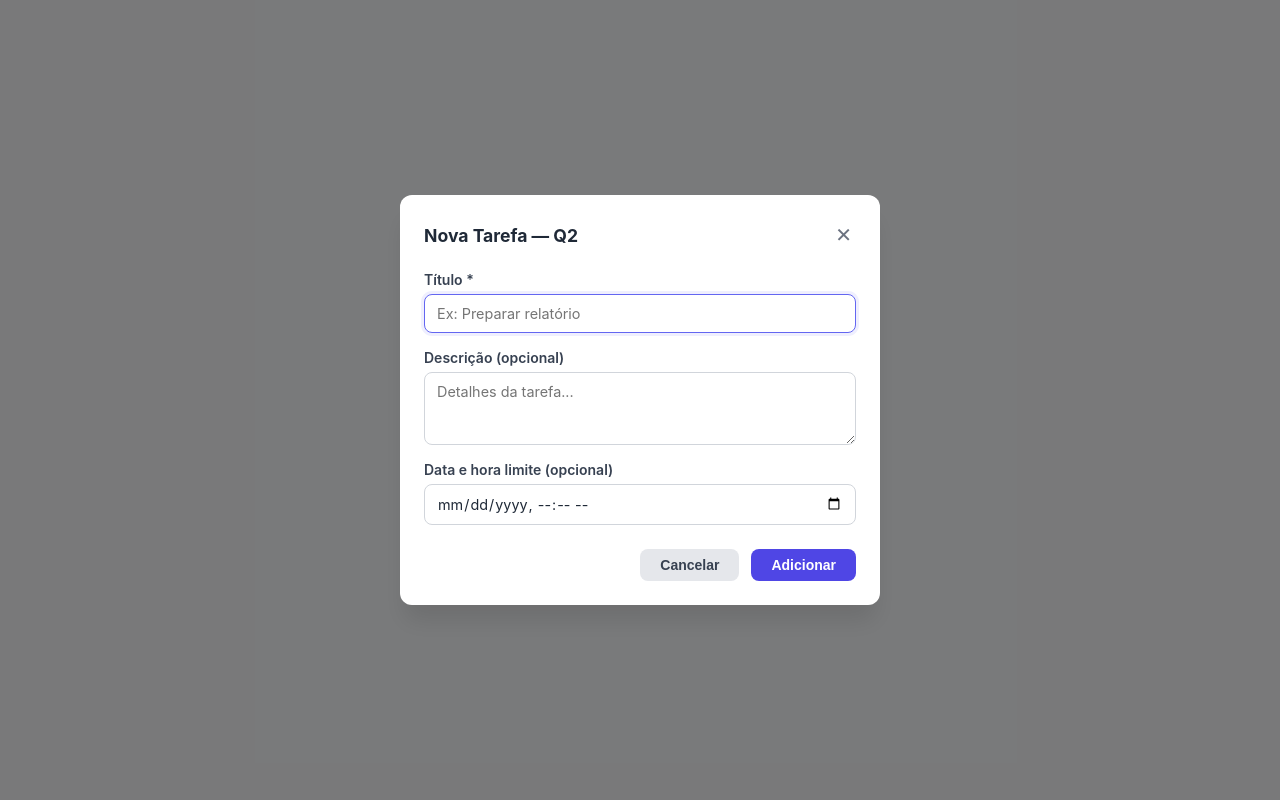
AddTaskModal › exibe erro quando createTask falha
Step 1. Type "Tarefa" into the field labelled "Título *" → (640, 314), box [424,294,856,333]
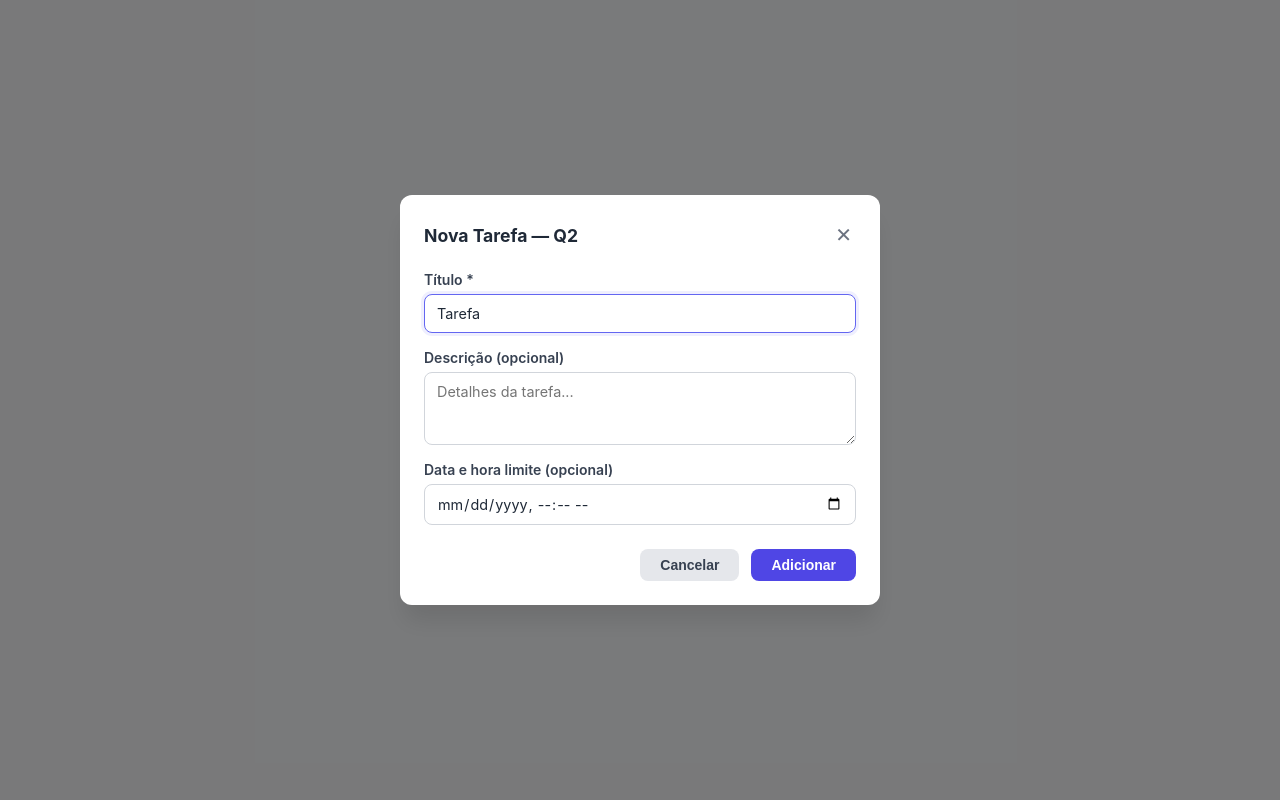
Step 2. Click the button "Adicionar" → (804, 565), box [751,549,856,581]
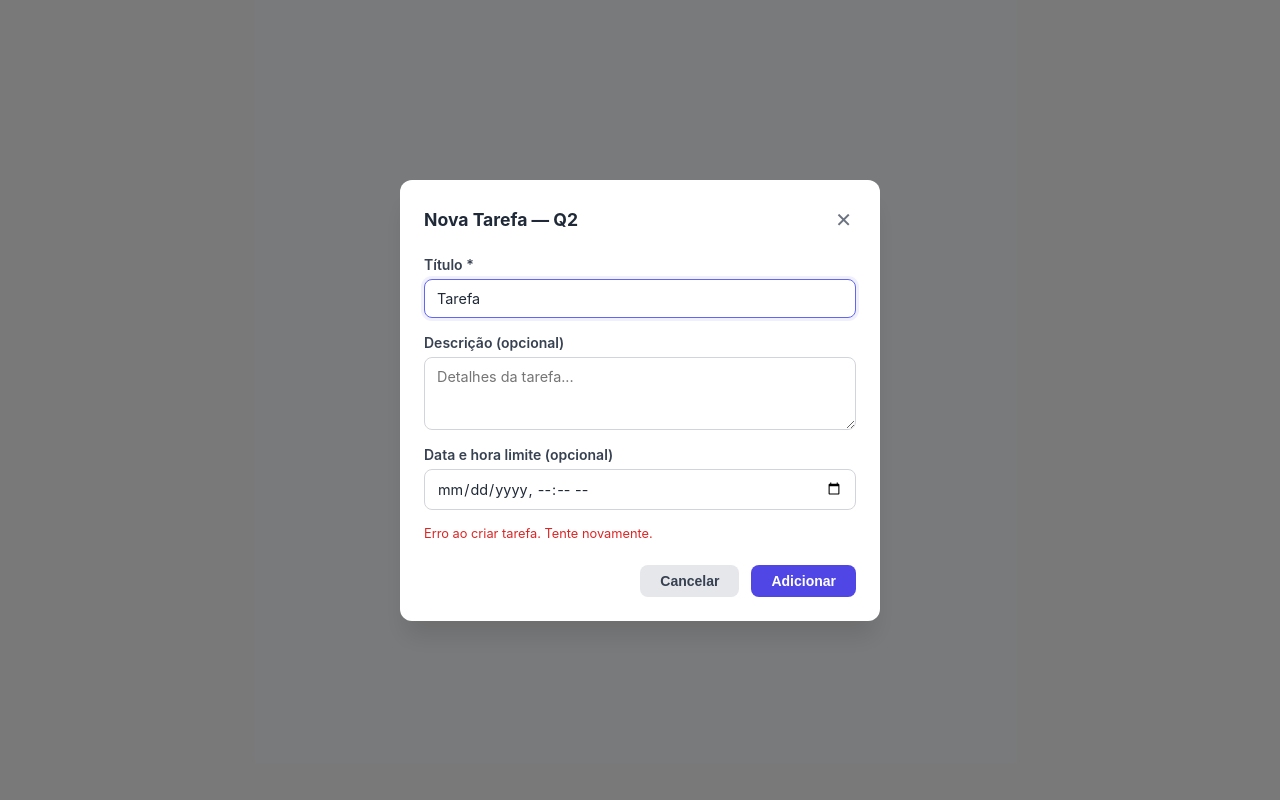
Expected: the text "Erro ao criar tarefa. Tente novamente." is shown, [424,526,653,540]
